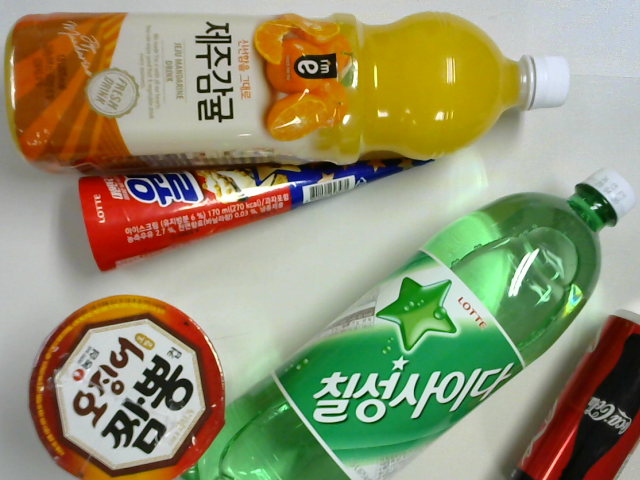Chilseong_Cider_1.5L: (178, 165, 635, 480)
Coca_Cola_Zero_Can_250ml: (509, 308, 640, 479)
Jeju_Tangerine_1.5L: (1, 14, 571, 160)
Ojjam: (25, 293, 225, 480)
World_Cone_Banila: (78, 153, 442, 274)
